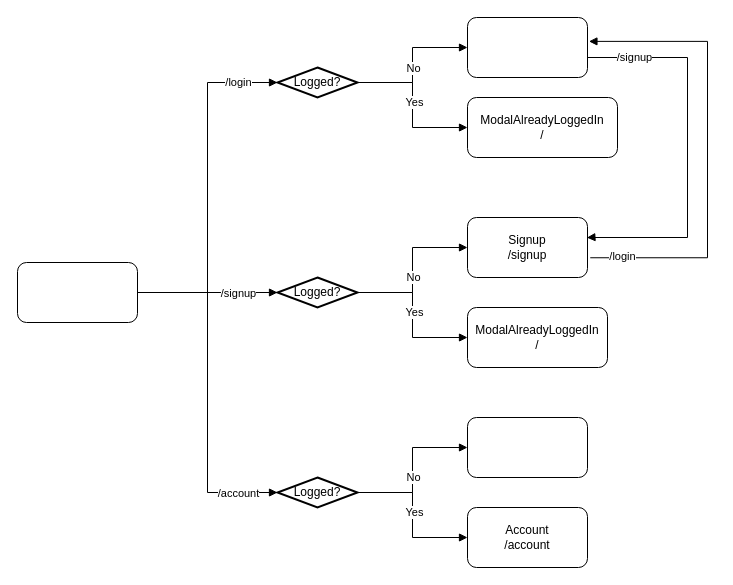
Some shapes in this 733 by 585 pixel diagram are drawn without their labels. The shapes that lost their labels are listed below. From the top down, each one's centre as x and y in pixels, then its label:
the point at 527,47: Login /login
the point at 77,292: Home /
the point at 527,447: ModalNotLogged /
